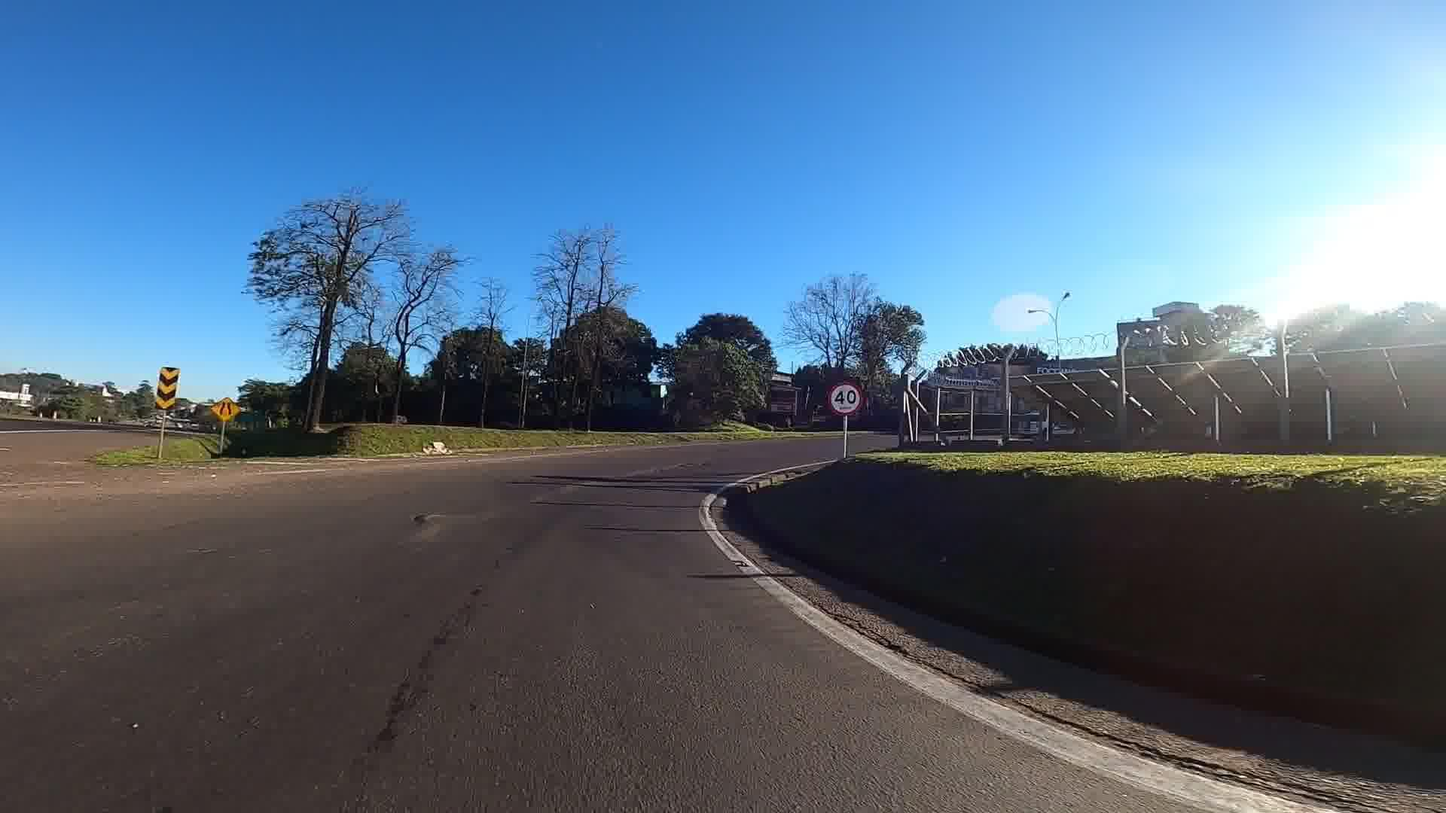R-19: (828, 382, 865, 416)
